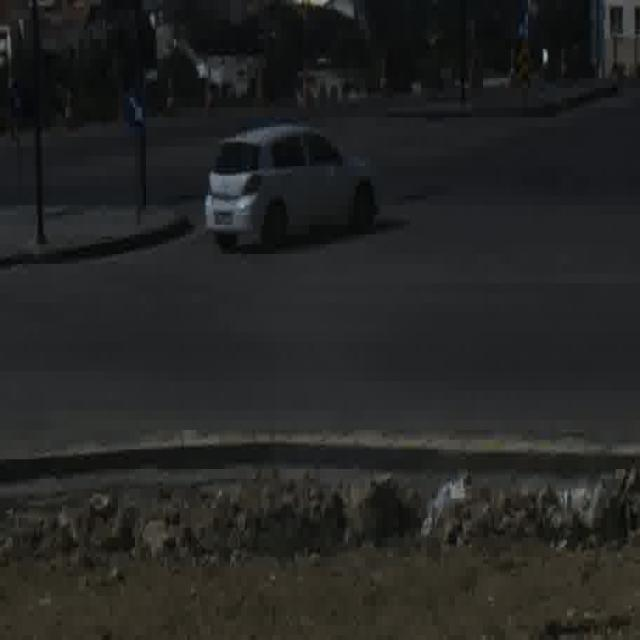Car: (205, 121, 376, 256)
